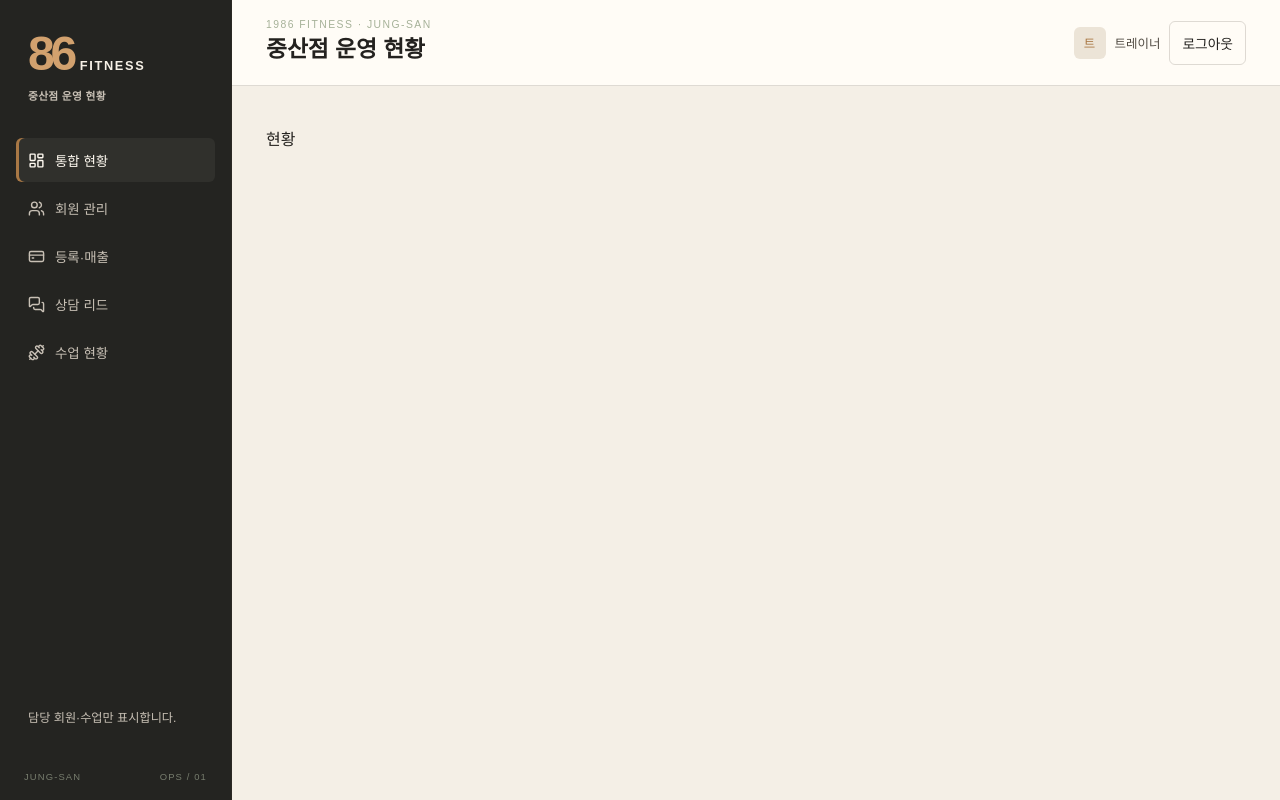
it: waits for server sign-out before redirecting and clearing the router cache
The image size is (1280, 800).
Click the button "로그아웃".
click(1208, 42)  # box [1169,20,1246,64]
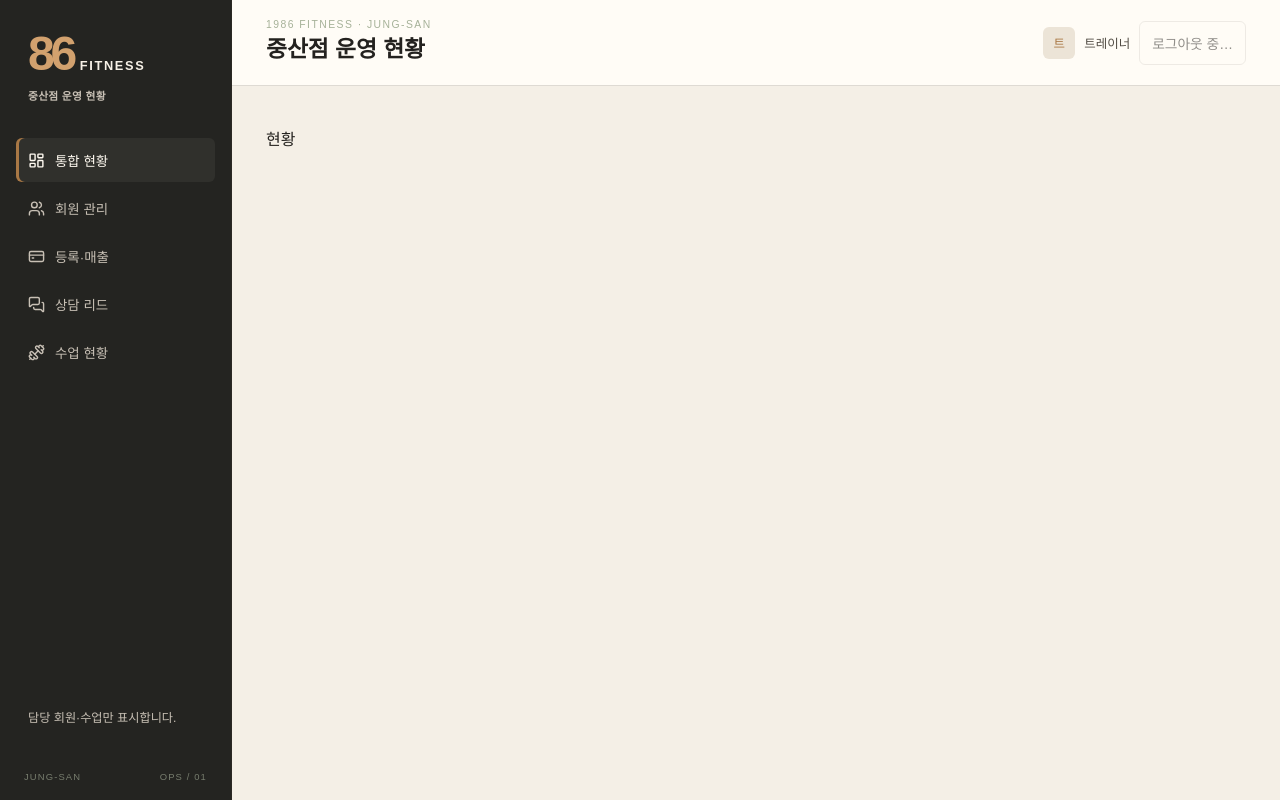
Expected: the button "로그아웃 중…" is disabled, [1139,20,1246,64]
